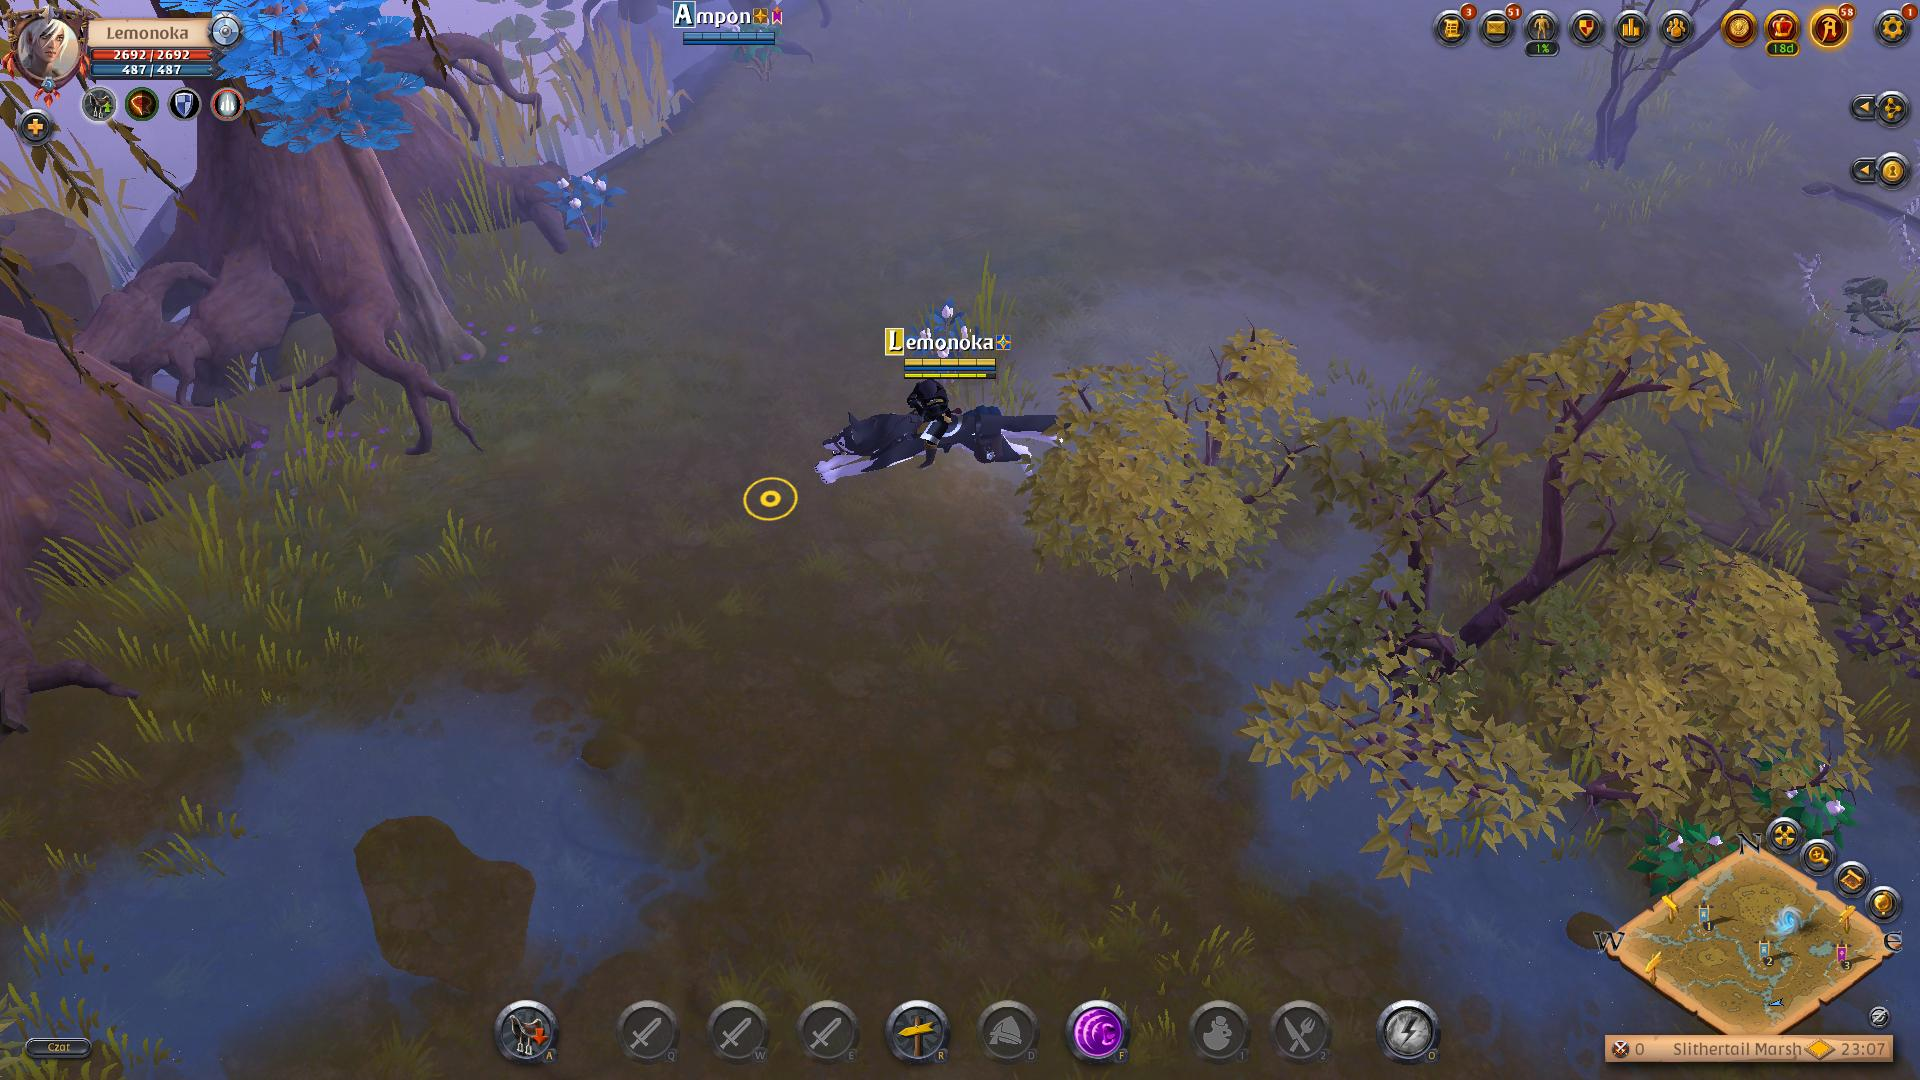fiber tier 4: (538, 166, 628, 252)
